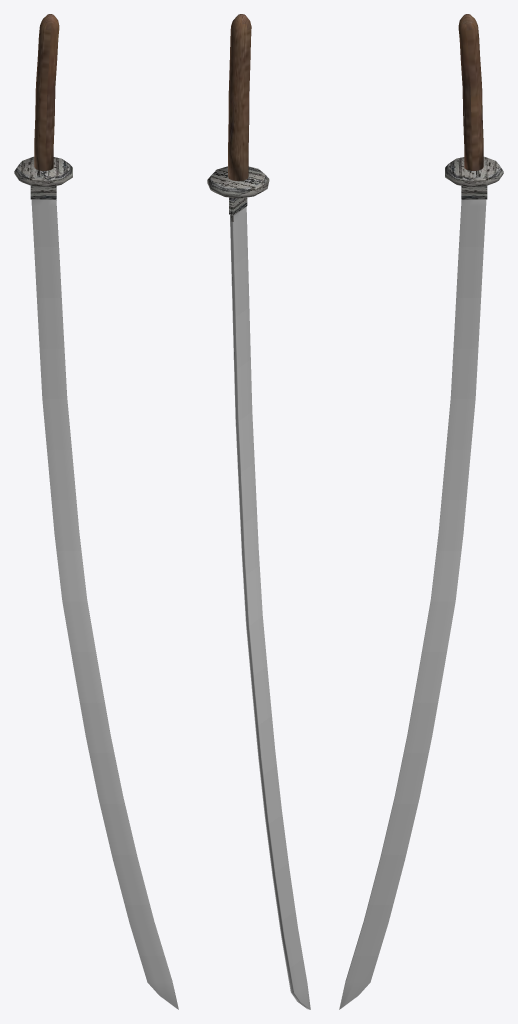
File: vampire katana.glb
3 renders of one model, left to right at view 1: azimuth 90°, elevation 25°; view 2: azimuth 150°, elevation 25°; view 3: azimuth 270°, elevation 25°, orthographic. The views are drawn at different scales.
Visible parts, largest first — view 1: Cube; view 2: Cube; view 3: Cube.
Part boxes in pixels (x1,y1,x2,y2): Cube: [14, 14, 178, 1009]; Cube: [207, 14, 310, 1009]; Cube: [339, 14, 503, 1009].
Size of the model in its own units: 0.2376 by 4.41 by 0.6595.
3 materials, 3 textured.
